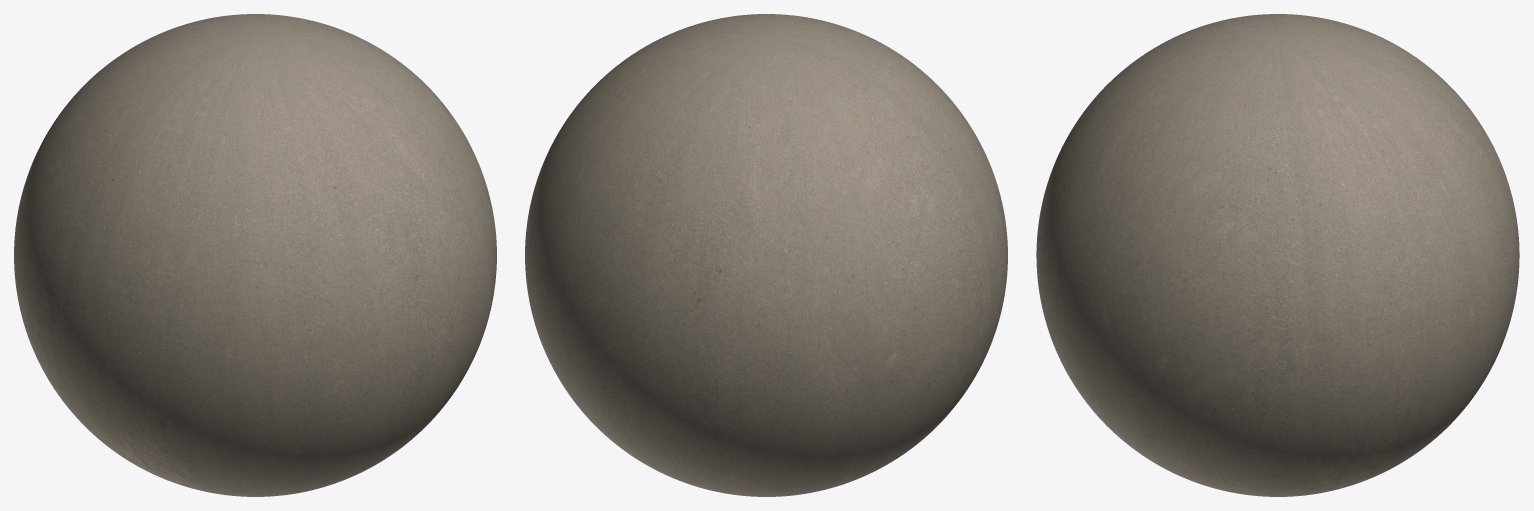
The model's file is asphalt_06_2k.gltf.
3 renders of one model, left to right at view 1: azimuth 30°, elevation 25°; view 2: azimuth 150°, elevation 25°; view 3: azimuth 270°, elevation 25°, orthographic.
Parts seen in each view (by area): view 1: sphere_gltf; view 2: sphere_gltf; view 3: sphere_gltf.
Boxes of the visible parts, x1,y1,x2,y2 form: sphere_gltf: [14, 14, 496, 496]; sphere_gltf: [525, 14, 1007, 496]; sphere_gltf: [1036, 14, 1519, 496].
Size of the model in its own units: 2 by 2 by 2.
1 material, 1 textured.
